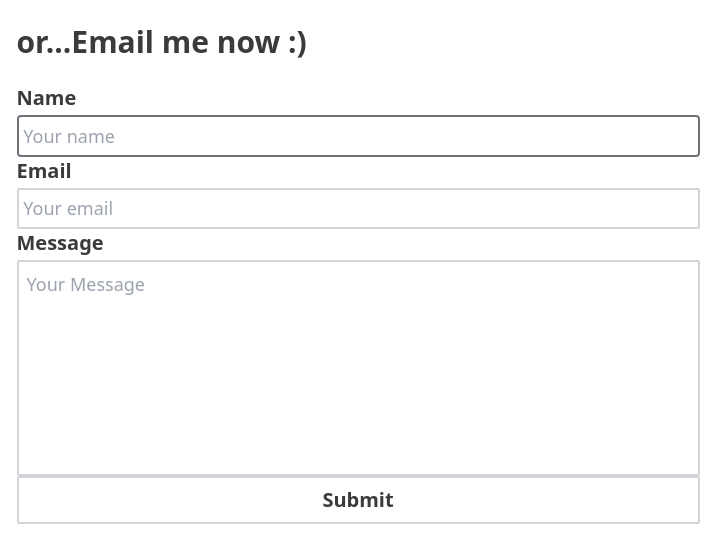
Check all the initial UI components rendering well › require notice working well?
Click the button.
click(358, 500)  # box [16,476,700,524]
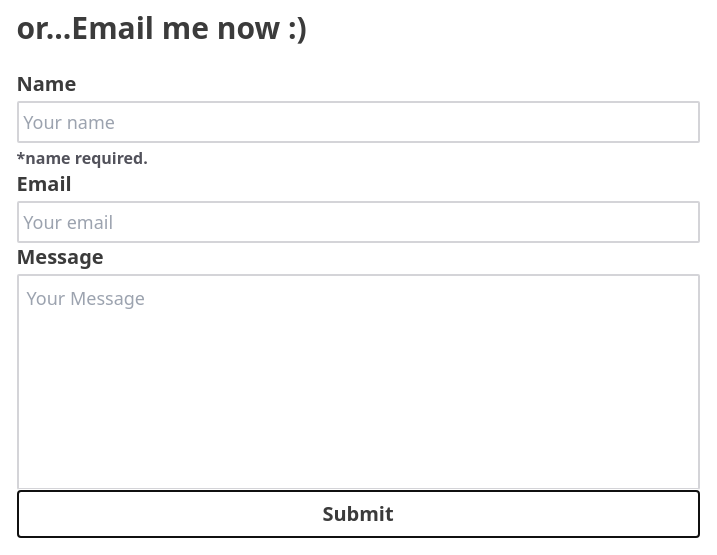
Expected: the text "*name required." is shown, [16,147,148,169]
